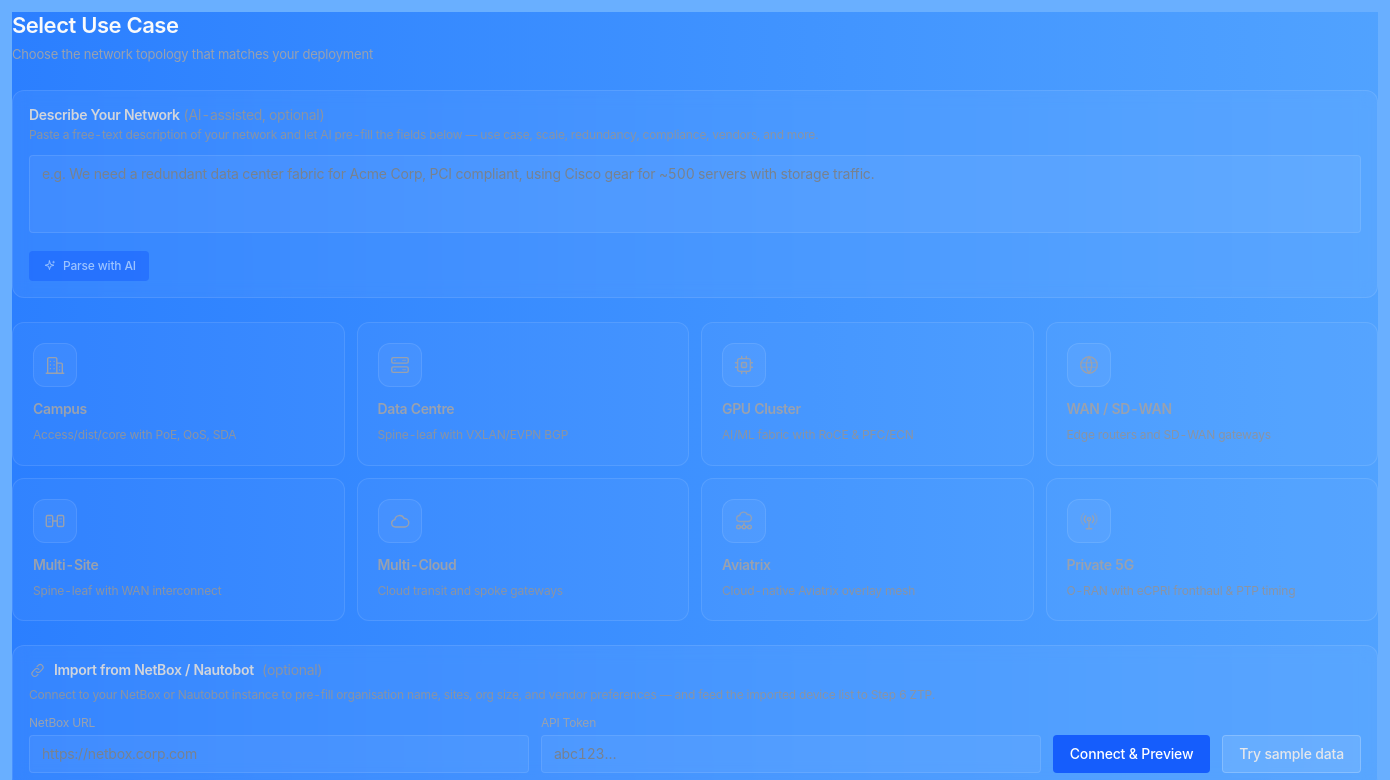
Step1UseCase — AI intent parser (G-A1) › shows the heuristic-parsed badge when the backend falls back
The width and height of the screenshot is (1390, 780).
Replace the text in the text box with placeholder "redundant data center fabric" with "A campus network for a school.": (695, 194) [29,155,1361,233]
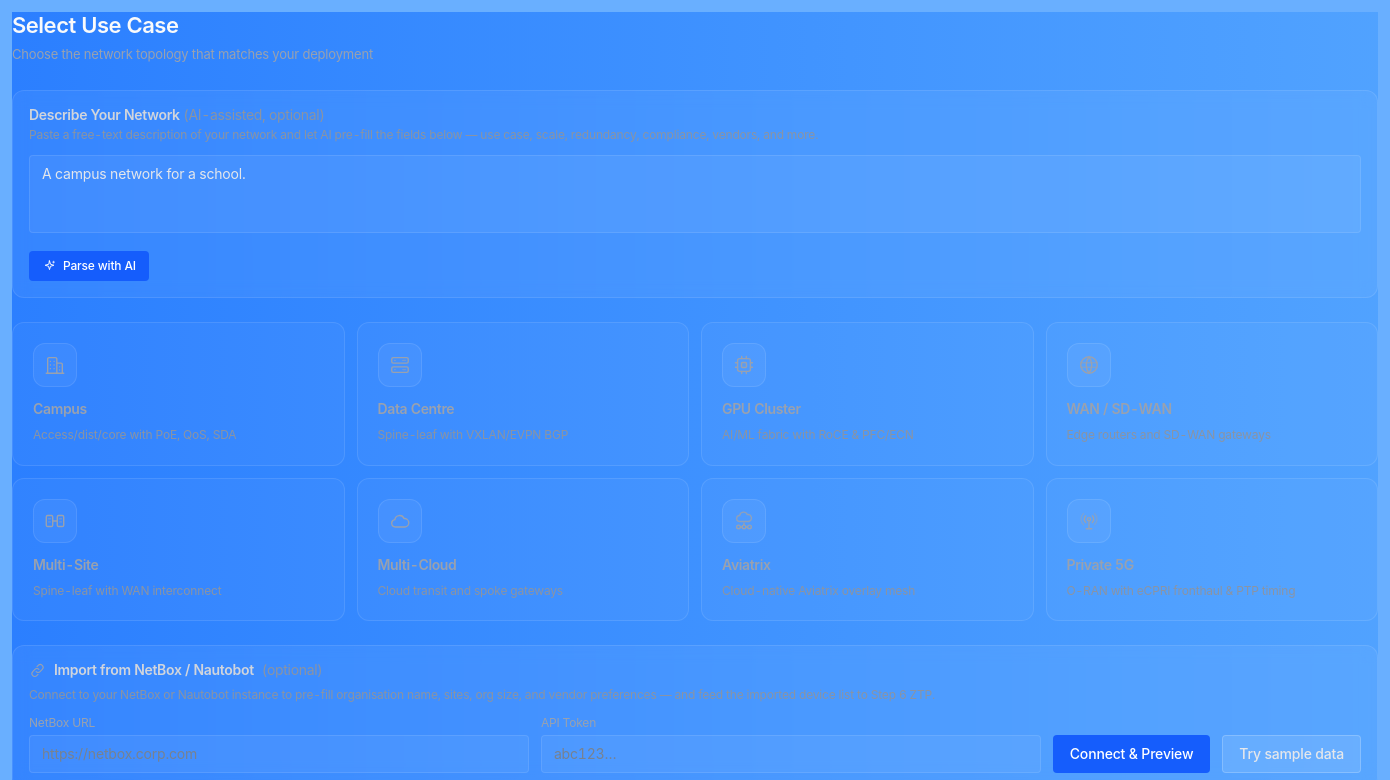
Click the button "Parse with AI": (89, 266) [29,251,149,281]
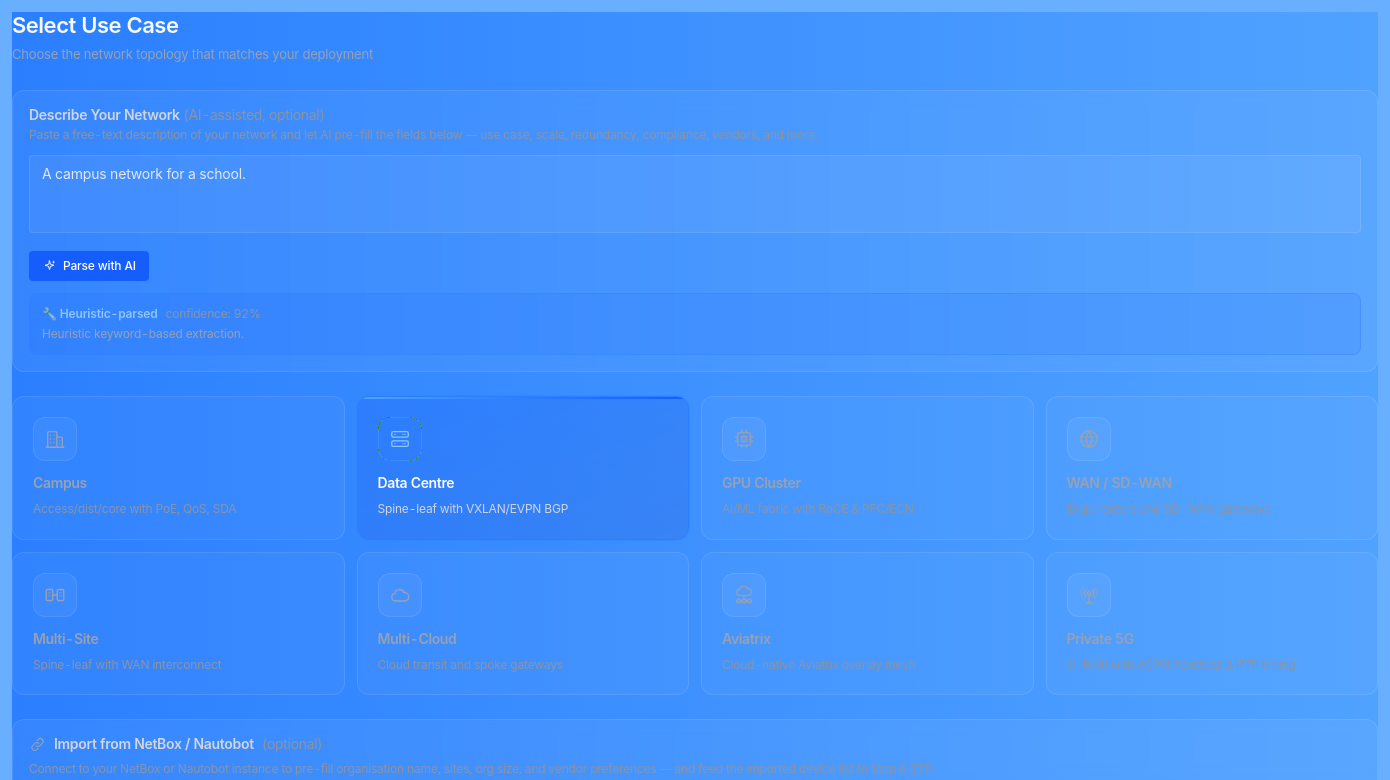
Expected: the text "🔧 Heuristic-parsed" is shown, [42,306,158,322]
